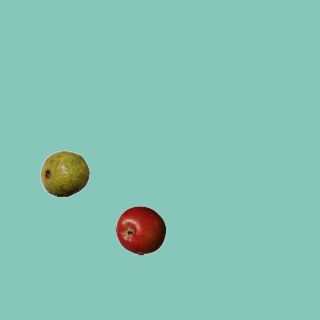Apple Braeburn: (115, 205, 165, 255)
Guava: (39, 148, 89, 198)
